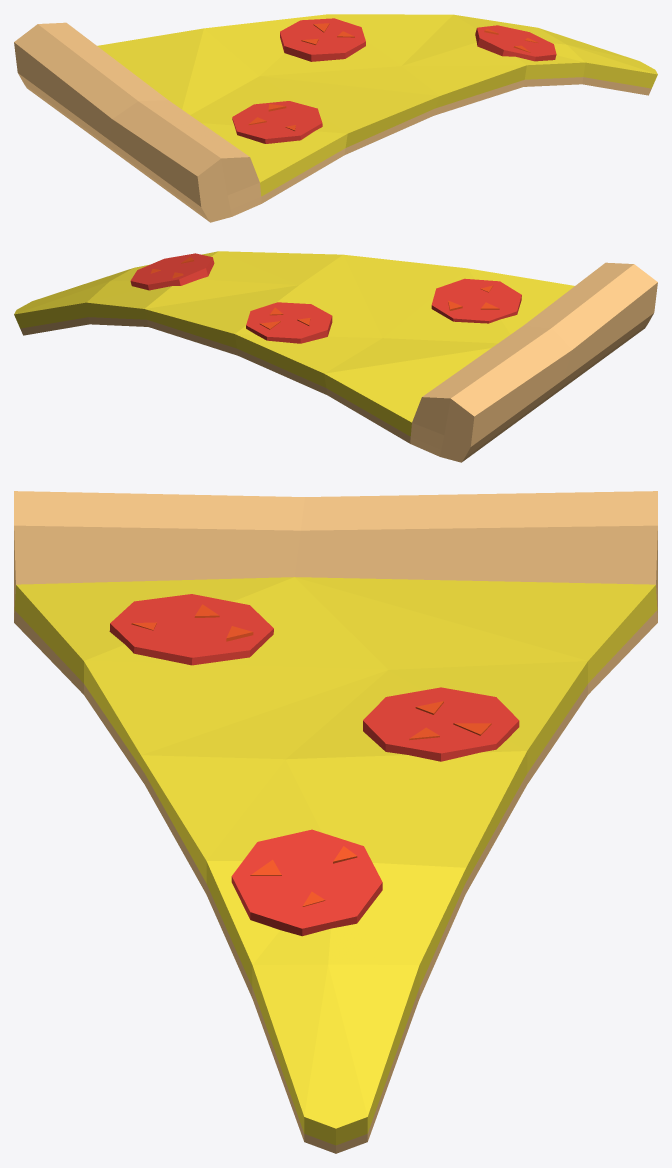
Rendered from Pizza_Slice_01.obj.
The picture shows the model from 3 angles, top to bottom: view 1: azimuth 30°, elevation 25°; view 2: azimuth 150°, elevation 25°; view 3: azimuth 270°, elevation 25°; orthographic projection. The views are drawn at different scales.
Parts seen in each view (by area): view 1: Plane.001; view 2: Plane.001; view 3: Plane.001.
Part boxes in pixels (x1,y1,x2,y2): Plane.001: (14, 14, 657, 222); Plane.001: (14, 251, 657, 462); Plane.001: (14, 491, 657, 1153).
Size of the model in its own units: 17.29 by 3.78 by 10.
